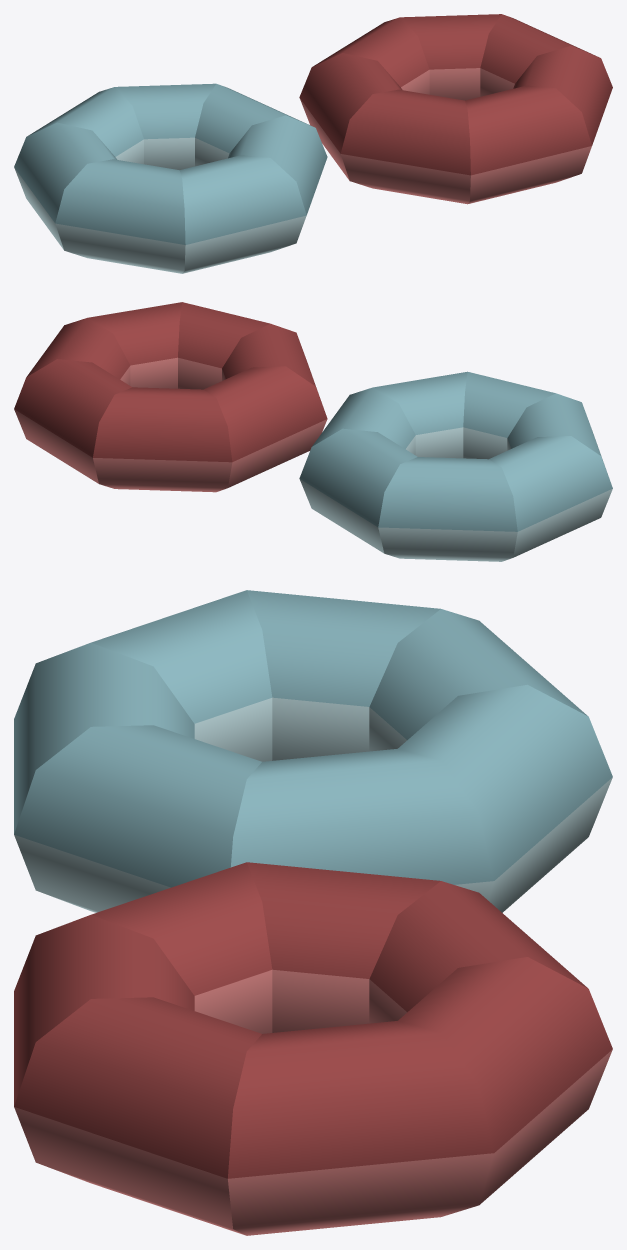
The model's file is Boias.FBX.
3 views of the same model, one above another, from view 1: azimuth 30°, elevation 25°; view 2: azimuth 150°, elevation 25°; view 3: azimuth 270°, elevation 25° (orthographic). The views are drawn at different scales.
Parts seen in each view (by area): view 1: Torus001, Torus002; view 2: Torus001, Torus002; view 3: Torus002, Torus001.
Part boxes in pixels (x1,y1,x2,y2): Torus001: [14, 83, 327, 273]; Torus002: [299, 14, 612, 204]; Torus001: [299, 371, 612, 561]; Torus002: [14, 302, 327, 492]; Torus002: [14, 862, 612, 1235]; Torus001: [14, 590, 612, 912].
Size of the model in its own units: 227 by 36.72 by 108.
